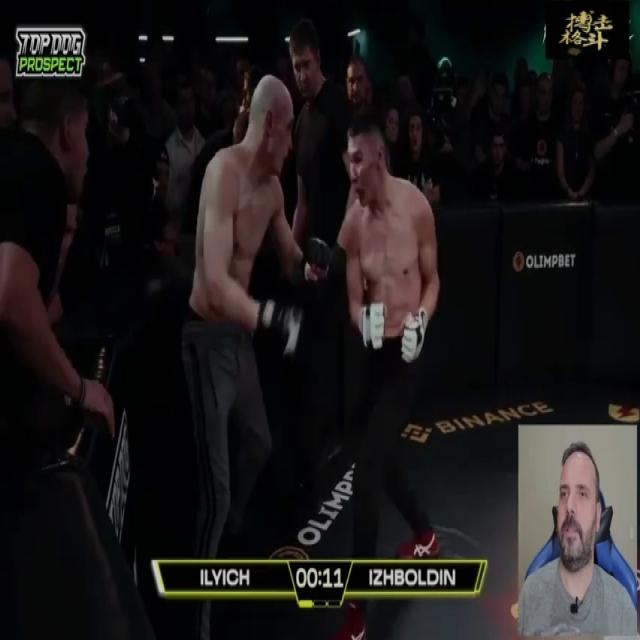fight: (187, 70, 328, 640), (338, 107, 439, 640)
